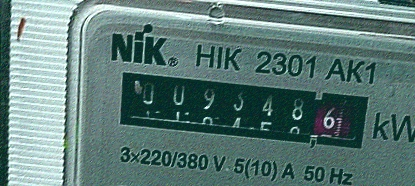0: (137, 79, 156, 106), (168, 79, 185, 106)
3: (229, 86, 246, 112)
4: (256, 86, 277, 118)
6: (318, 101, 337, 131)
8: (287, 93, 305, 122)
9: (199, 85, 215, 113)
screen: (97, 55, 382, 160)
